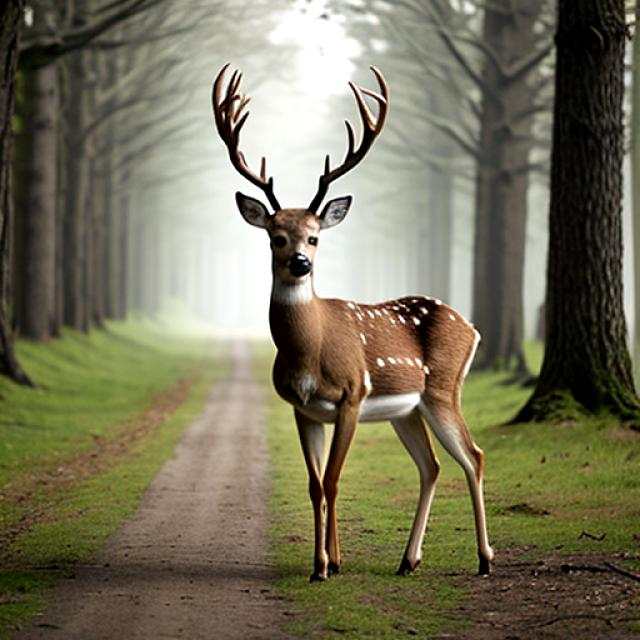deer: (210, 43, 440, 396)
